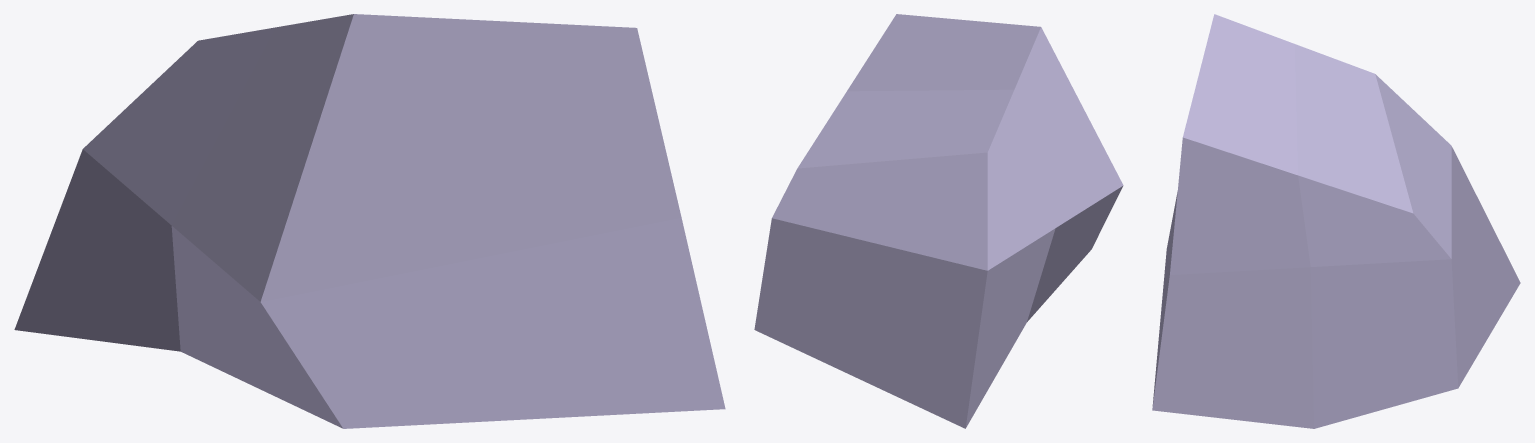
Rendered from RubbleChunk.fbx.
The picture shows the model from 3 angles, left to right: view 1: azimuth 30°, elevation 25°; view 2: azimuth 150°, elevation 25°; view 3: azimuth 270°, elevation 25°; orthographic projection. The views are drawn at different scales.
Visible parts, largest first — view 1: RubbleChunk; view 2: RubbleChunk; view 3: RubbleChunk.
Boxes of the visible parts, x1,y1,x2,y2 form: RubbleChunk: (14, 14, 725, 428); RubbleChunk: (754, 14, 1123, 428); RubbleChunk: (1152, 14, 1520, 428).
Size of the model in its own units: 250 by 256 by 274.
